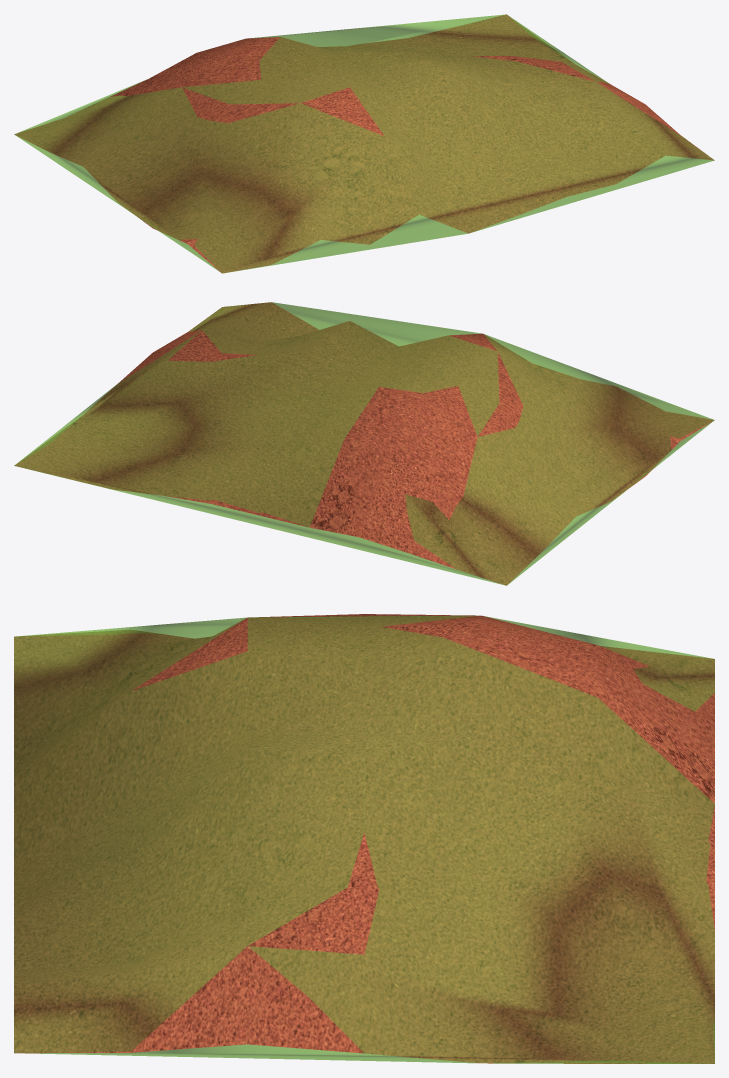
File: pg_spices_01.fbx
3 views of the same model, one above another, from view 1: azimuth 30°, elevation 25°; view 2: azimuth 150°, elevation 25°; view 3: azimuth 270°, elevation 25° (orthographic). The views are drawn at different scales.
Visible parts, largest first — view 1: pg_spices_01_a_col, pg_spices_01_a_LOD0; view 2: pg_spices_01_a_LOD0, pg_spices_01_a_col; view 3: pg_spices_01_a_LOD0, pg_spices_01_a_col.
Boxes of the visible parts, left/top/right/bottom form: pg_spices_01_a_col: left=14, top=14, right=714, bottom=273; pg_spices_01_a_LOD0: left=14, top=14, right=713, bottom=273; pg_spices_01_a_LOD0: left=14, top=302, right=714, bottom=585; pg_spices_01_a_col: left=14, top=302, right=714, bottom=585; pg_spices_01_a_LOD0: left=14, top=614, right=714, bottom=1063; pg_spices_01_a_col: left=14, top=615, right=714, bottom=1063.
Size of what is drawn, in the model's own units: 40.47 by 8.45 by 29.63.
Materials: 2 (1 with a texture image).
